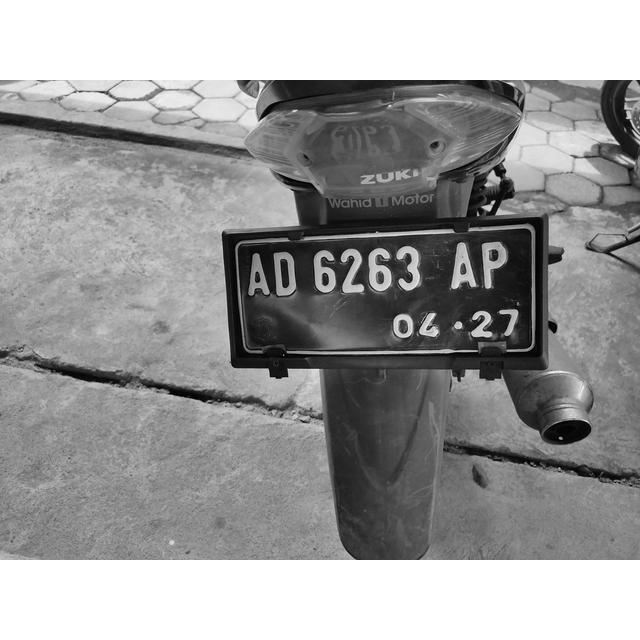license: (243, 237, 521, 344)
